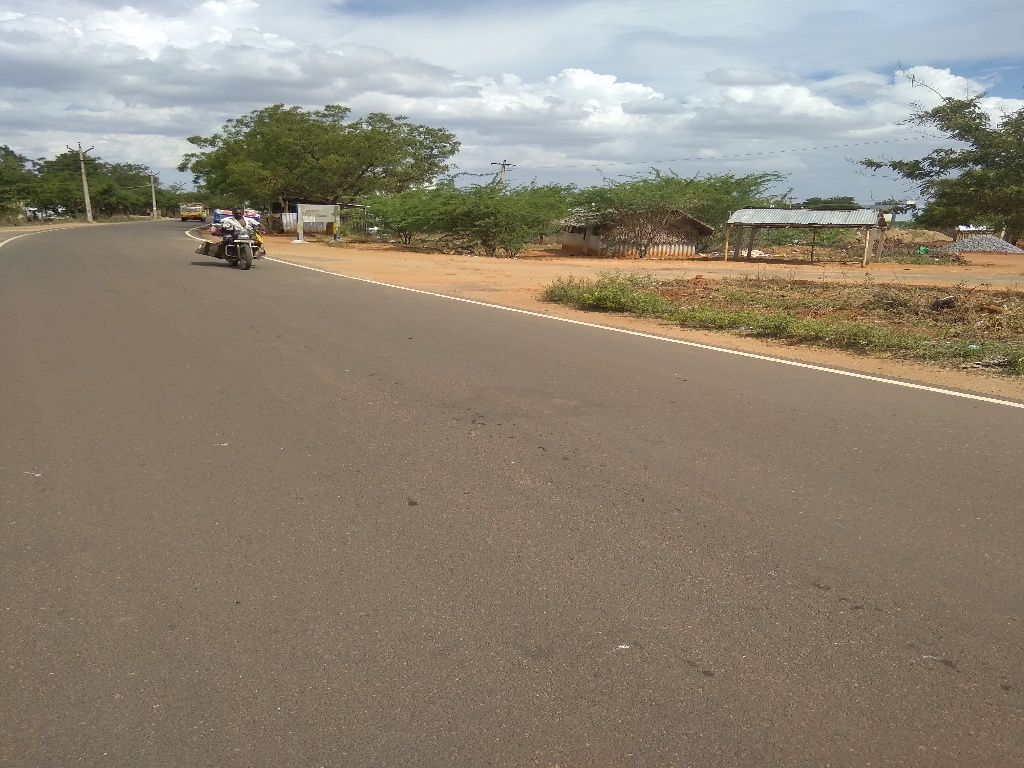biker: (189, 182, 277, 275)
nohelmet: (220, 193, 256, 224)
